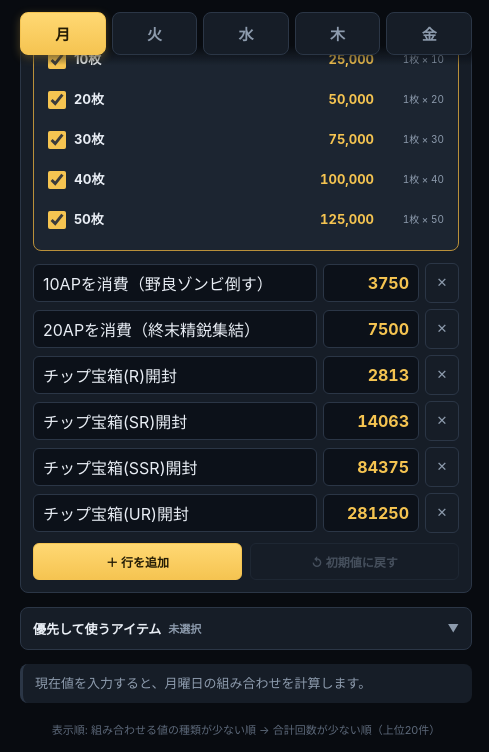
Calc: 獲得値の編集 › 値を変えるとバッジとタブの印が出て、初期値に戻せる
(page scrolled)
Expected: the button "↺ 初期値に戻す" is disabled, [250,543,459,580]
Replace the text in the field named "チップ宝箱(UR)開封の獲得値" with "30000" at (371, 513), box [323,494,419,532]
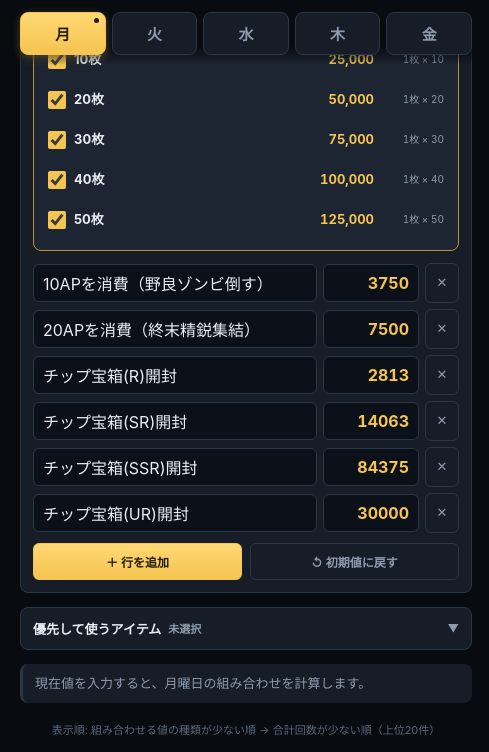
Now the icon named "編集済み" is shown, box [94,18,99,23]
Click the button "↺ 初期値に戻す" at (354, 562), box [250,543,459,580]
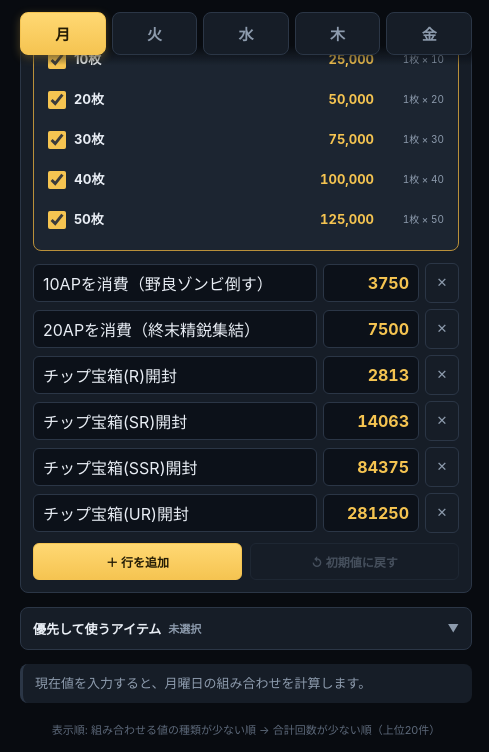
Now the field named "チップ宝箱(UR)開封の獲得値" holds "281250", box [323,494,419,532]
